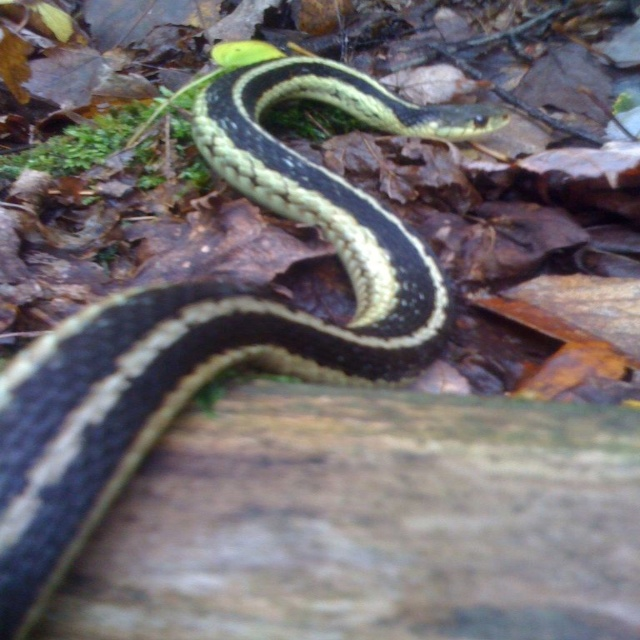Snake: (0, 51, 519, 640)
